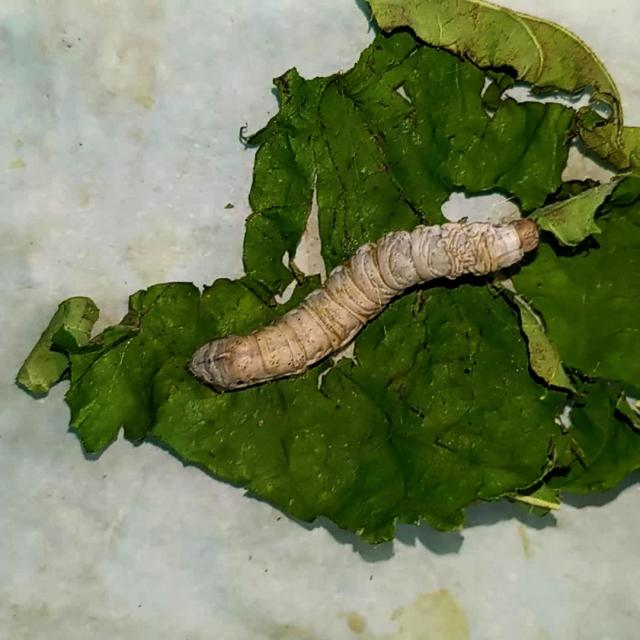Grasserie: (180, 194, 557, 403)
